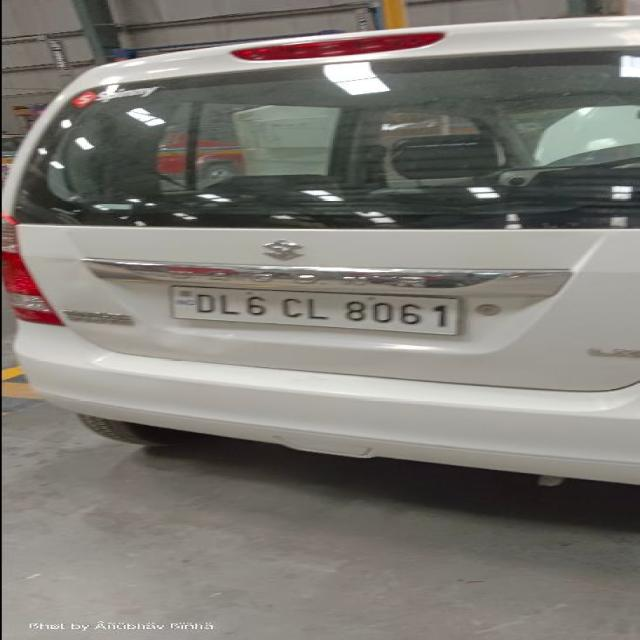license_plate: (166, 284, 462, 336)
